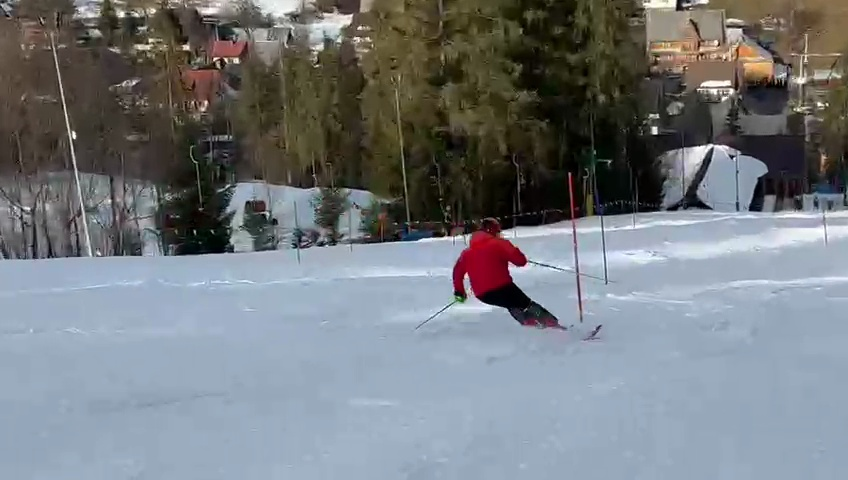gate: (562, 166, 587, 326), (590, 172, 610, 289), (812, 192, 829, 249)
